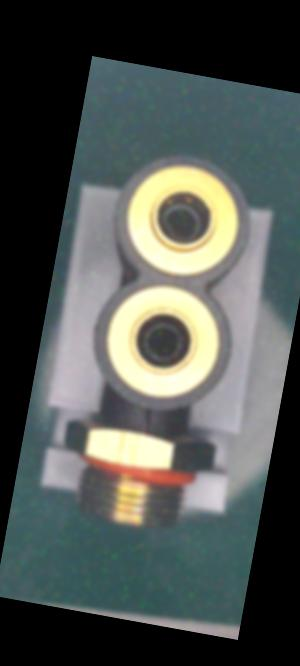craze: (138, 402, 155, 439)
off-centered: (156, 194, 205, 249)
